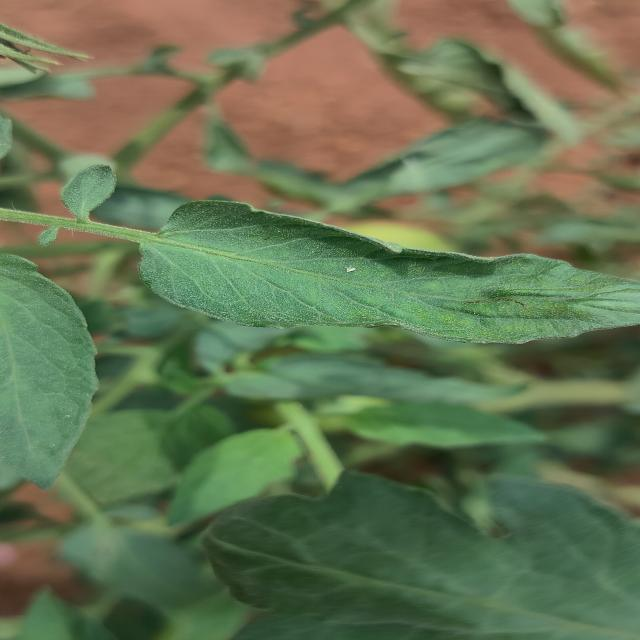tomato_healthy: (202, 473, 639, 640), (138, 200, 640, 343), (0, 254, 96, 490)
